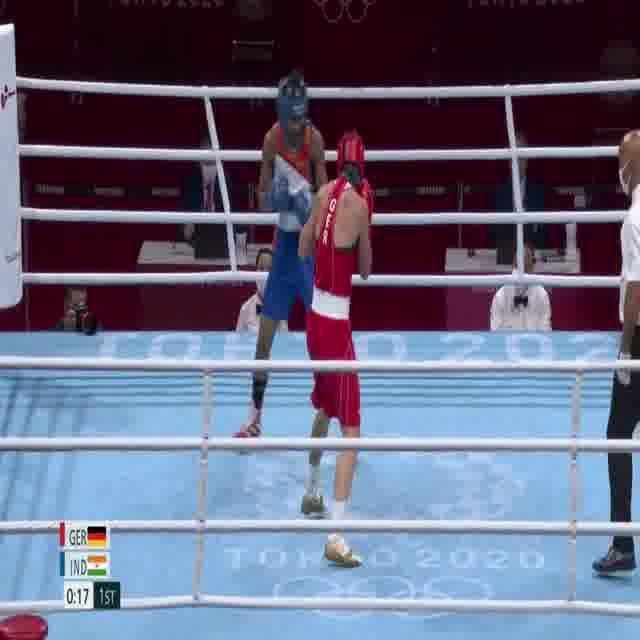blue-player: (232, 61, 334, 454)
red-player: (295, 126, 379, 571)
referee: (589, 126, 640, 577)
